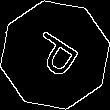P_SE: (24, 26, 86, 84)
